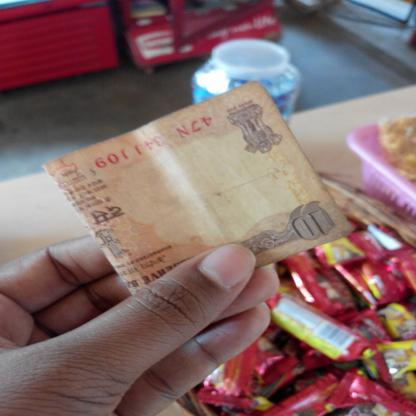Old10Front: (40, 79, 355, 299)
